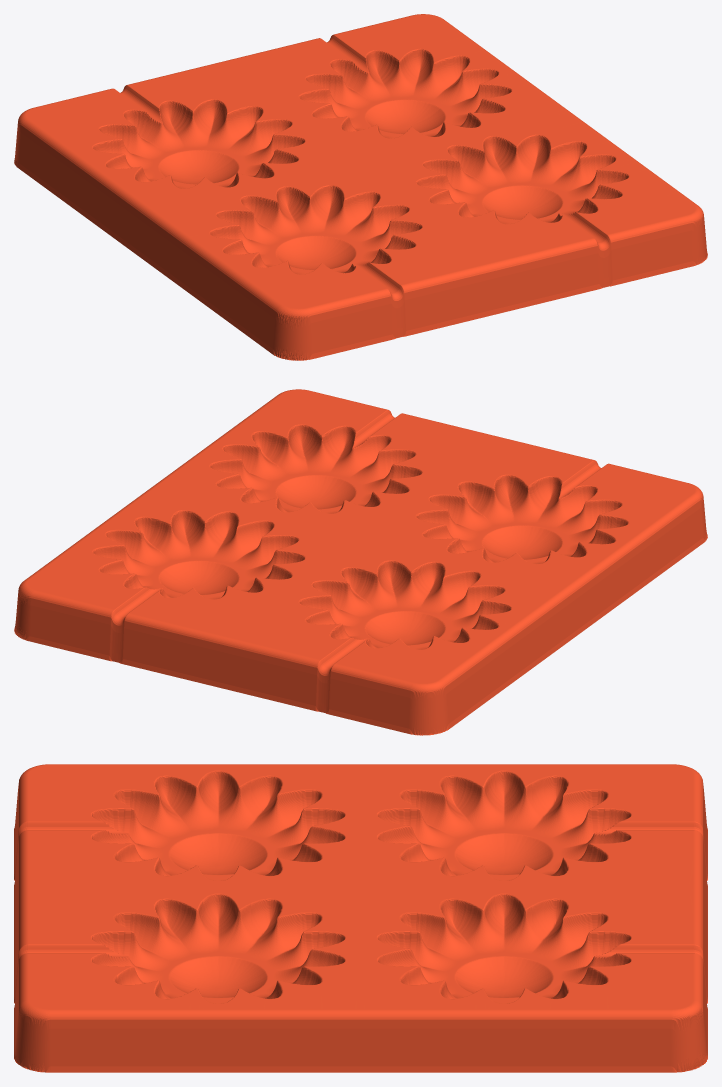
File: mold.glb
3 views of the same model, one above another, from view 1: azimuth 30°, elevation 25°; view 2: azimuth 150°, elevation 25°; view 3: azimuth 270°, elevation 25° (orthographic). The views are drawn at different scales.
Visible parts, largest first — view 1: geometry_0; view 2: geometry_0; view 3: geometry_0.
Part boxes in pixels (bbox=[...]): geometry_0: bbox=[14, 14, 707, 360]; geometry_0: bbox=[14, 389, 707, 735]; geometry_0: bbox=[14, 764, 707, 1072].
Bounding box in the file's own units: 0.1497 × 0.0155 × 0.1709.
